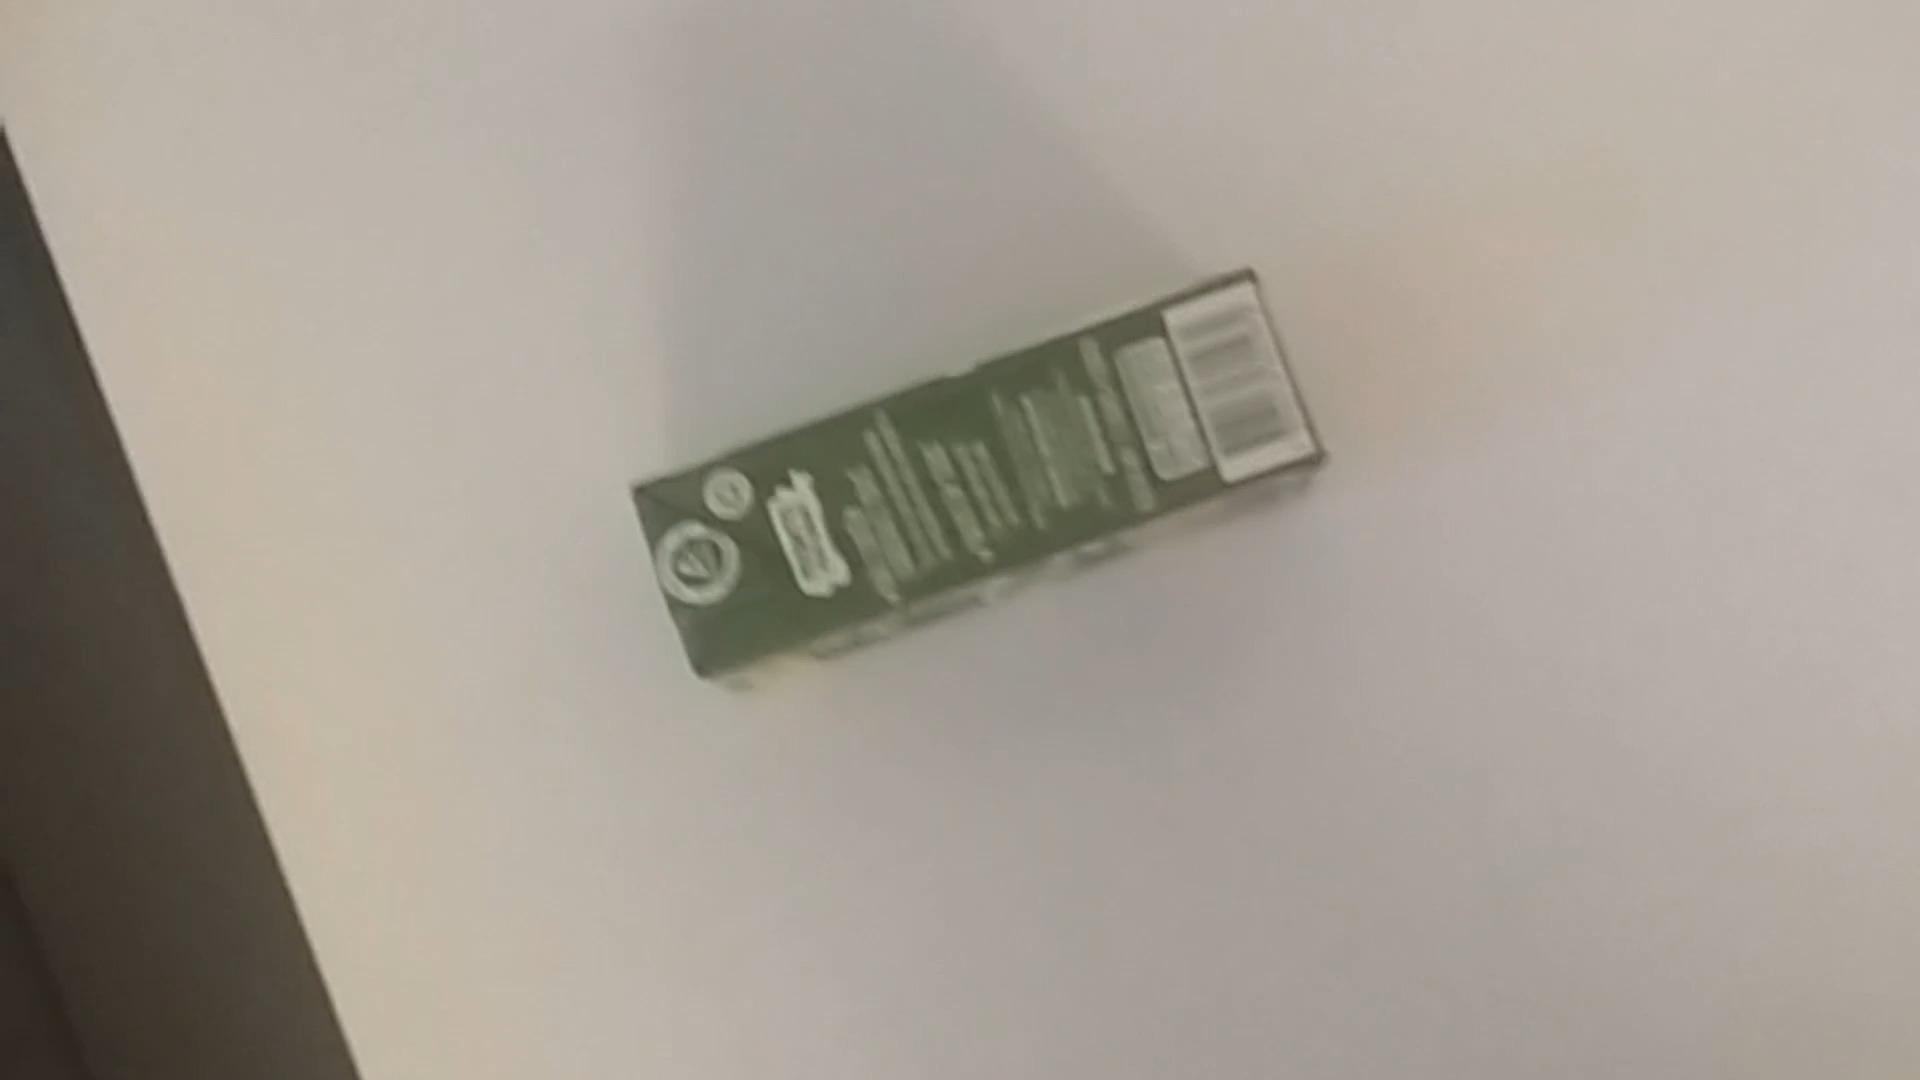coco: (625, 255, 1325, 687)
